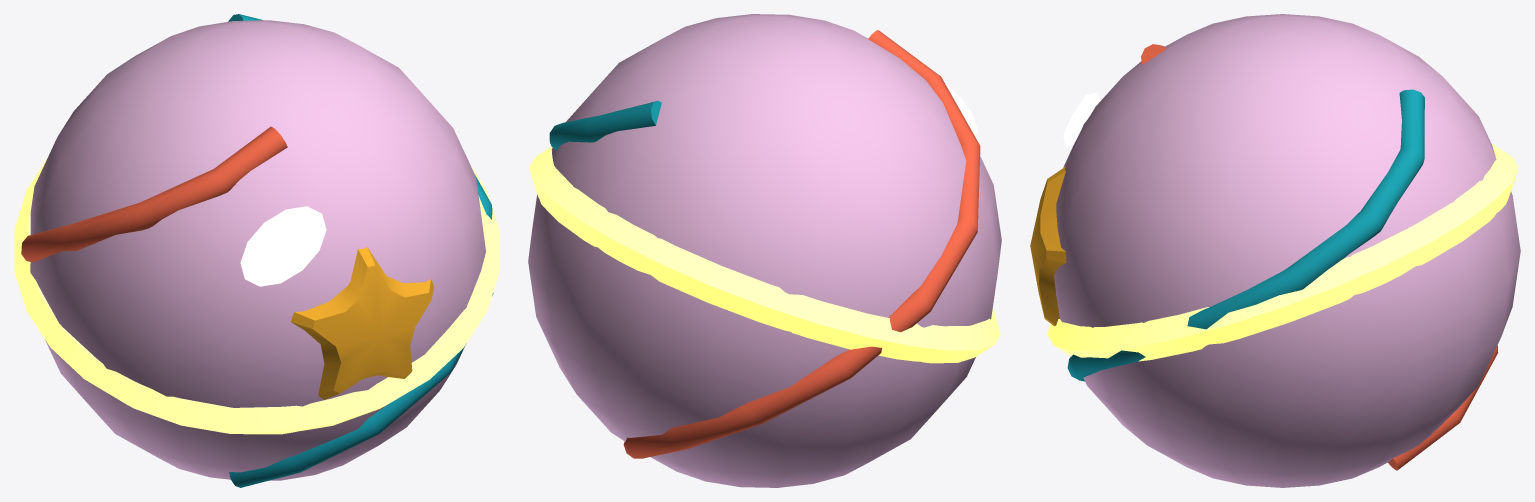
The model's file is keepsake.glb.
3 renders of one model, left to right at view 1: azimuth 30°, elevation 25°; view 2: azimuth 150°, elevation 25°; view 3: azimuth 270°, elevation 25°, orthographic. The views are drawn at different scales.
Visible parts, largest first — view 1: keepsake; view 2: keepsake; view 3: keepsake.
Part boxes in pixels (box(x1,y1,x2,y2)): keepsake: box(14, 14, 499, 487); keepsake: box(528, 14, 1001, 487); keepsake: box(1030, 14, 1520, 487).
Size of the model in its own units: 0.4639 by 0.45 by 0.4639.
